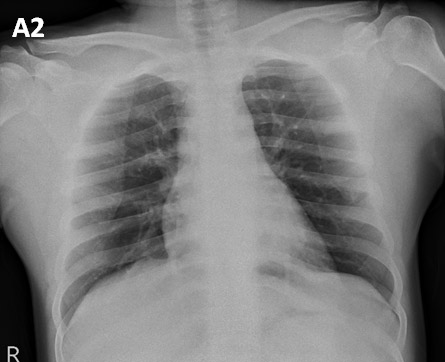Mildw: (243, 63, 391, 299), (61, 77, 187, 322)
